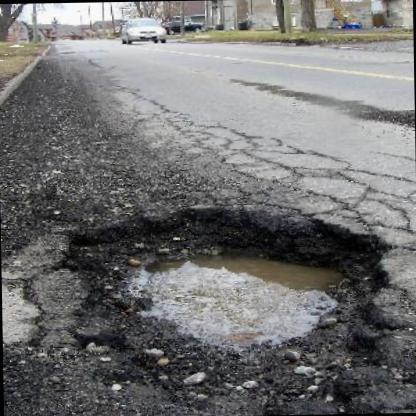pothole: (0, 198, 404, 416)
